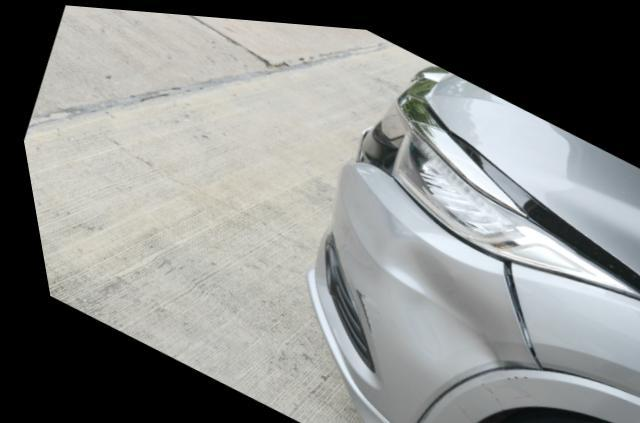dent: (367, 233, 495, 366)
scratch: (346, 282, 363, 328)
